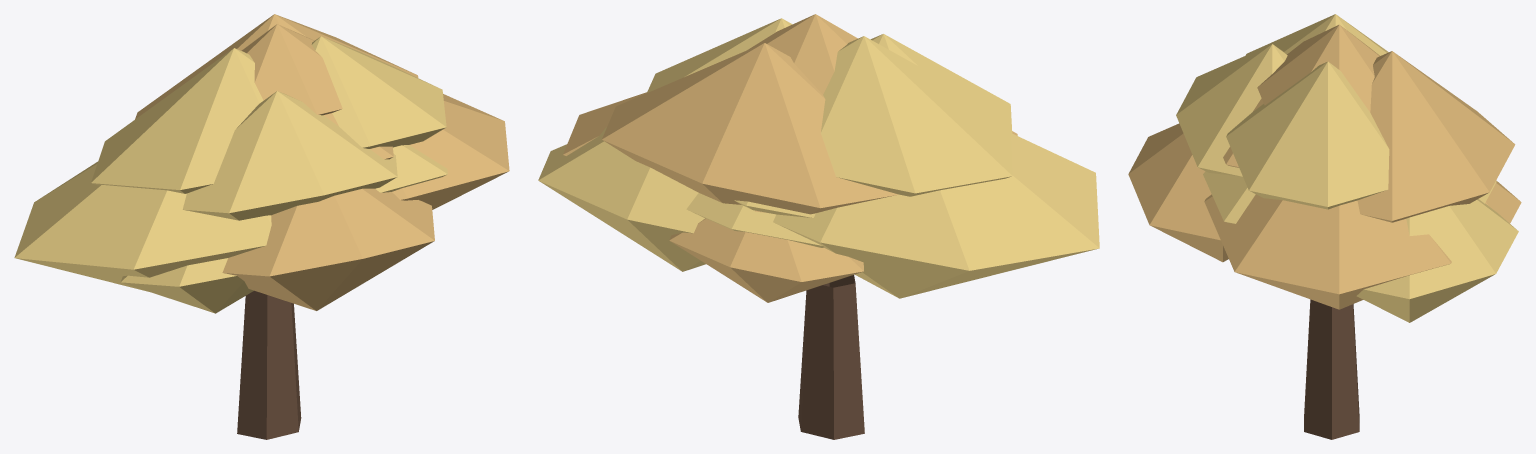
Rendered from tree_reference_oak_low_01_hlod.fbx.
The picture shows the model from 3 angles, left to right: view 1: azimuth 30°, elevation 25°; view 2: azimuth 150°, elevation 25°; view 3: azimuth 270°, elevation 25°; orthographic projection. The views are drawn at different scales.
Parts seen in each view (by area): view 1: tree_reference_oak_low_01_hlod_canopy_03, tree_reference_oak_low_01_hlod_canopy_08, tree_reference_oak_low_01_hlod_canopy_05, tree_reference_oak_low_01_hlod_canopy_14, tree_reference_oak_low_01_hlod_canopy_11, tree_reference_oak_low_01_hlod_trunk_00, tree_reference_oak_low_01_hlod_canopy_01, tree_reference_oak_low_01_hlod_canopy_10, tree_reference_oak_low_01_hlod_canopy_09, tree_reference_oak_low_01_hlod_canopy_04, tree_reference_oak_low_01_hlod_canopy_00; view 2: tree_reference_oak_low_01_hlod_canopy_04, tree_reference_oak_low_01_hlod_canopy_03, tree_reference_oak_low_01_hlod_canopy_14, tree_reference_oak_low_01_hlod_canopy_07, tree_reference_oak_low_01_hlod_trunk_00, tree_reference_oak_low_01_hlod_canopy_06, tree_reference_oak_low_01_hlod_canopy_10, tree_reference_oak_low_01_hlod_canopy_02, tree_reference_oak_low_01_hlod_canopy_11, tree_reference_oak_low_01_hlod_canopy_05, tree_reference_oak_low_01_hlod_canopy_01; view 3: tree_reference_oak_low_01_hlod_canopy_01, tree_reference_oak_low_01_hlod_canopy_11, tree_reference_oak_low_01_hlod_canopy_04, tree_reference_oak_low_01_hlod_canopy_07, tree_reference_oak_low_01_hlod_canopy_08, tree_reference_oak_low_01_hlod_canopy_05, tree_reference_oak_low_01_hlod_trunk_00, tree_reference_oak_low_01_hlod_canopy_10, tree_reference_oak_low_01_hlod_canopy_00, tree_reference_oak_low_01_hlod_canopy_14, tree_reference_oak_low_01_hlod_canopy_06.
Part boxes in pixels (x1,y1,x2,y2): tree_reference_oak_low_01_hlod_canopy_03: (14,161,271,291); tree_reference_oak_low_01_hlod_canopy_08: (222,188,434,310); tree_reference_oak_low_01_hlod_canopy_05: (182,91,397,220); tree_reference_oak_low_01_hlod_canopy_14: (91,48,263,193); tree_reference_oak_low_01_hlod_canopy_11: (311,36,446,148); tree_reference_oak_low_01_hlod_trunk_00: (237,290,301,439); tree_reference_oak_low_01_hlod_canopy_01: (392,94,509,209); tree_reference_oak_low_01_hlod_canopy_10: (241,24,342,115); tree_reference_oak_low_01_hlod_canopy_09: (121,258,253,313); tree_reference_oak_low_01_hlod_canopy_04: (135,14,418,119); tree_reference_oak_low_01_hlod_canopy_00: (375,145,447,192); tree_reference_oak_low_01_hlod_canopy_04: (602,43,898,214); tree_reference_oak_low_01_hlod_canopy_03: (773,133,1099,298); tree_reference_oak_low_01_hlod_canopy_14: (821,36,1012,196); tree_reference_oak_low_01_hlod_canopy_07: (538,127,705,271); tree_reference_oak_low_01_hlod_trunk_00: (798,275,864,439); tree_reference_oak_low_01_hlod_canopy_06: (669,210,863,302); tree_reference_oak_low_01_hlod_canopy_10: (748,14,857,94); tree_reference_oak_low_01_hlod_canopy_02: (686,193,824,247); tree_reference_oak_low_01_hlod_canopy_11: (647,18,792,92); tree_reference_oak_low_01_hlod_canopy_05: (870,34,1012,133); tree_reference_oak_low_01_hlod_canopy_01: (563,92,646,155); tree_reference_oak_low_01_hlod_canopy_01: (1204,194,1451,309); tree_reference_oak_low_01_hlod_canopy_11: (1226,61,1389,209); tree_reference_oak_low_01_hlod_canopy_04: (1357,51,1515,222); tree_reference_oak_low_01_hlod_canopy_07: (1356,199,1518,322); tree_reference_oak_low_01_hlod_canopy_08: (1128,123,1228,262); tree_reference_oak_low_01_hlod_canopy_05: (1176,44,1287,176); tree_reference_oak_low_01_hlod_trunk_00: (1304,299,1359,439); tree_reference_oak_low_01_hlod_canopy_10: (1257,24,1379,112); tree_reference_oak_low_01_hlod_canopy_00: (1203,171,1255,223); tree_reference_oak_low_01_hlod_canopy_14: (1245,14,1388,55); tree_reference_oak_low_01_hlod_canopy_06: (1485,180,1521,223).
Bounding box in the file's own units: 621 × 474 × 417.
